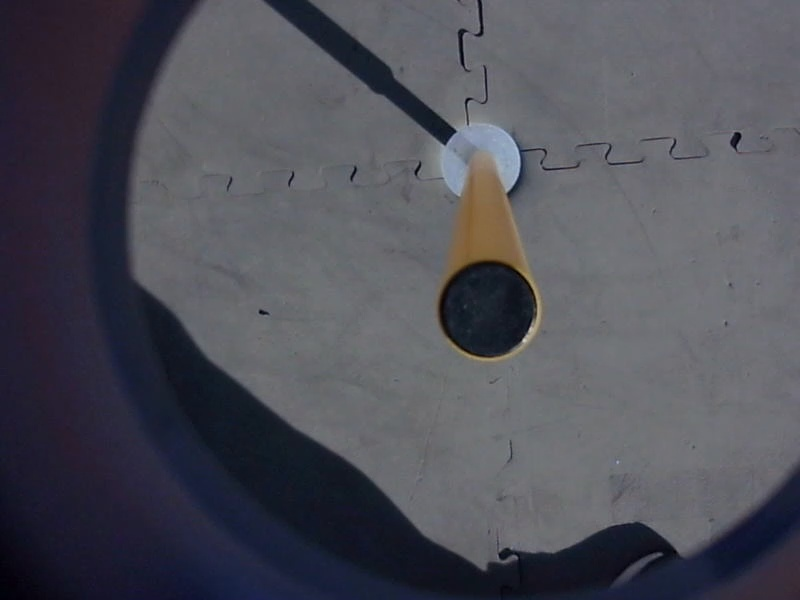tip: (432, 255, 546, 364)
